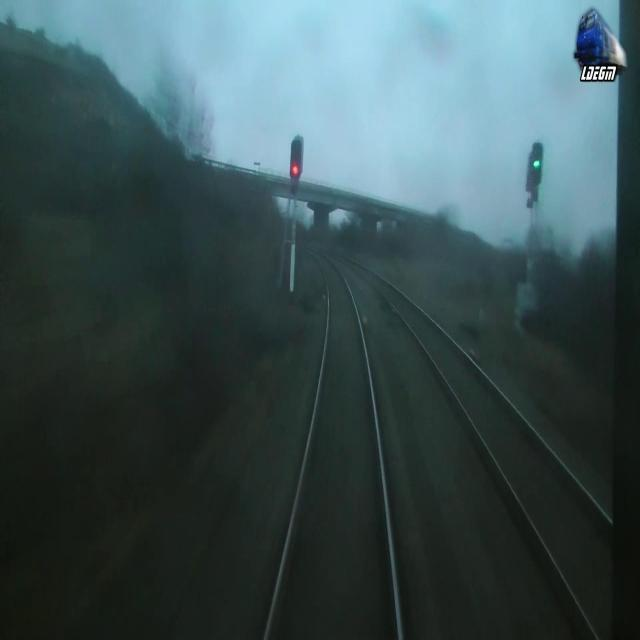rail-track: (328, 252, 640, 639), (267, 248, 398, 639)
